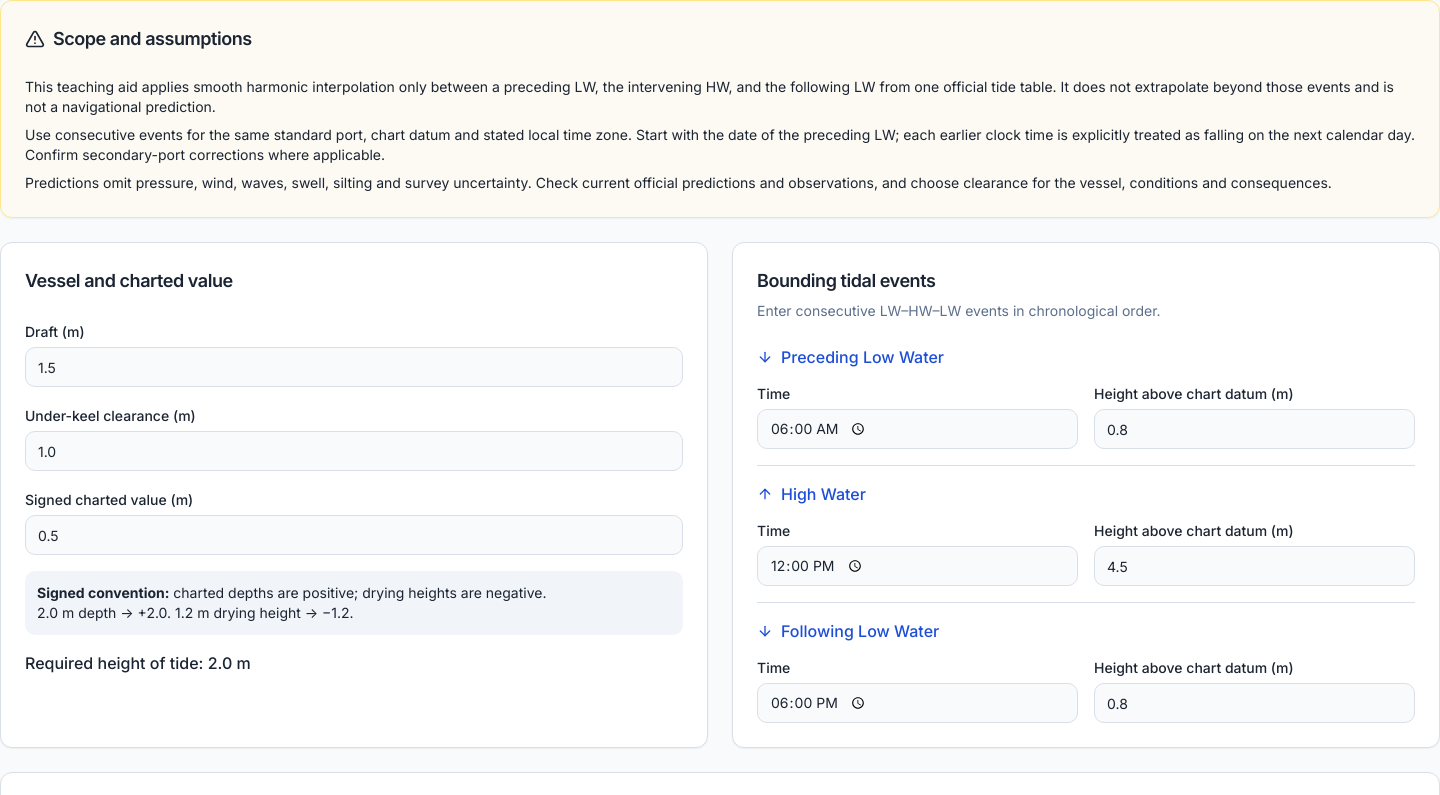
Test: TidalPassageCalculator rendering contract › does not invent a rounded window when the exact interval is too narrow
Replace the text in the time field with id "high-time" with "12:02" at (918, 566), box [757,546,1078,586]
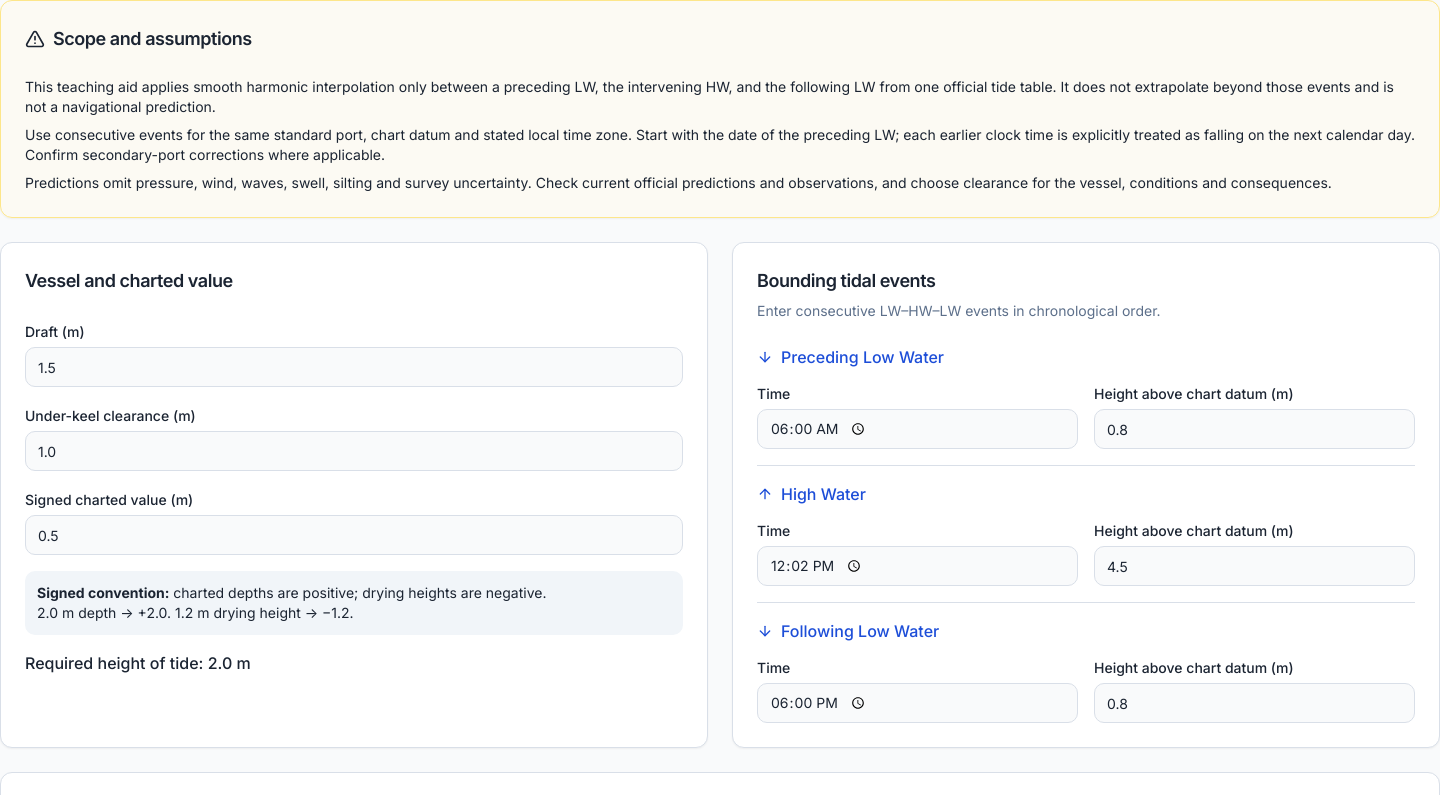
Replace the text in the time field with id "followingLow-time" with "18:02" at (918, 703), box [757,683,1078,723]
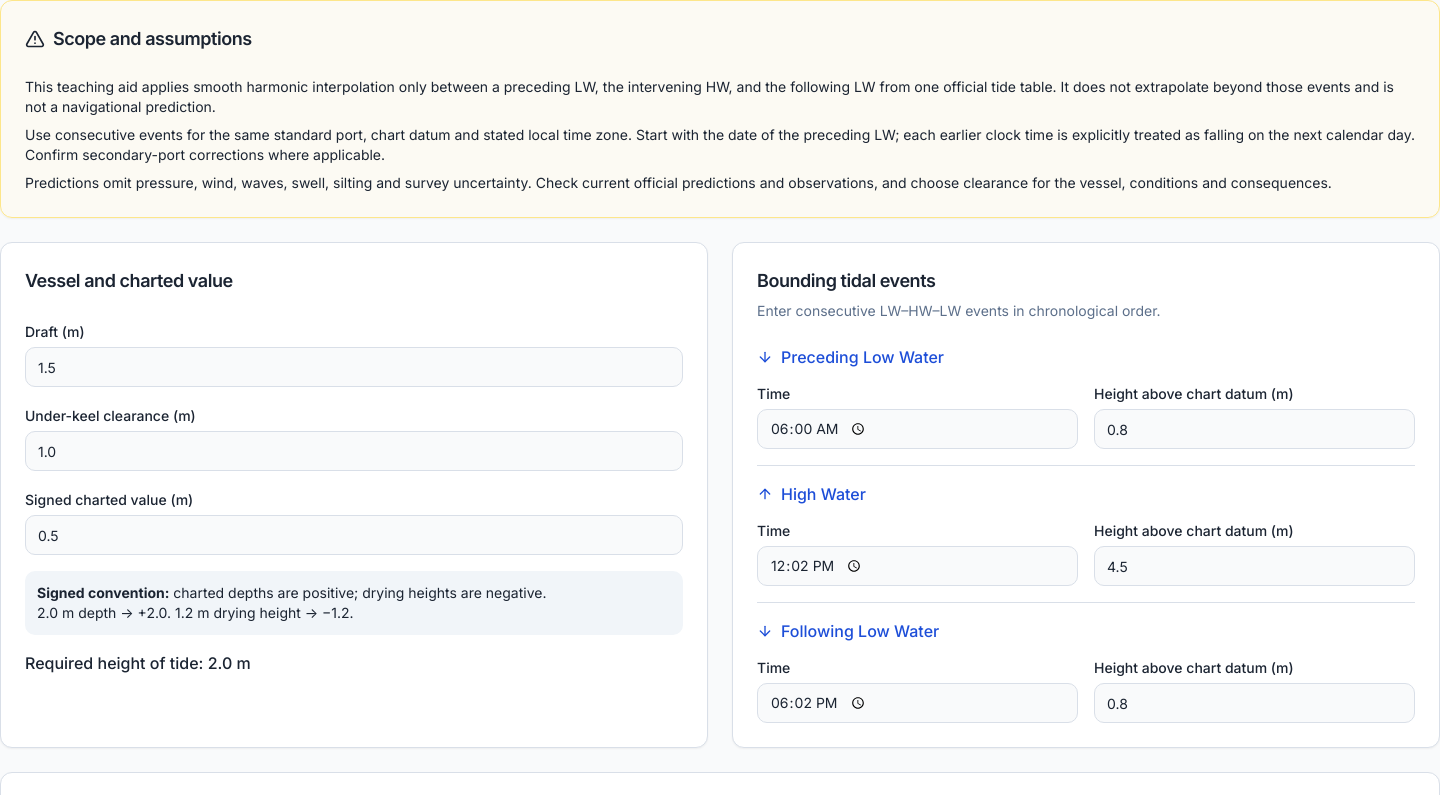
Replace the text in the number field with id "draft" with "4.49999" at (354, 367), box [25,347,683,387]
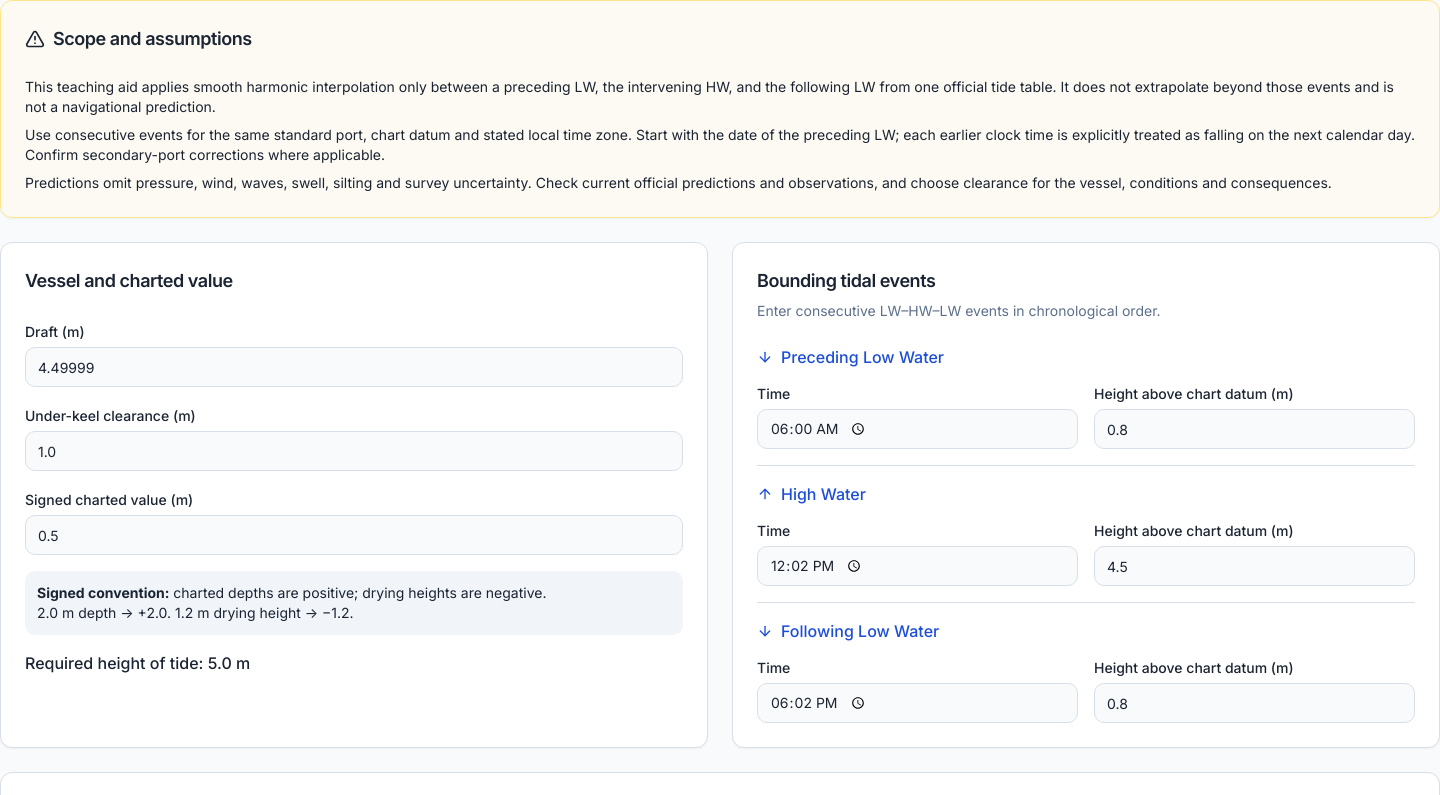
Replace the text in the number field with id "clearance" with "0" at (354, 451), box [25,431,683,471]
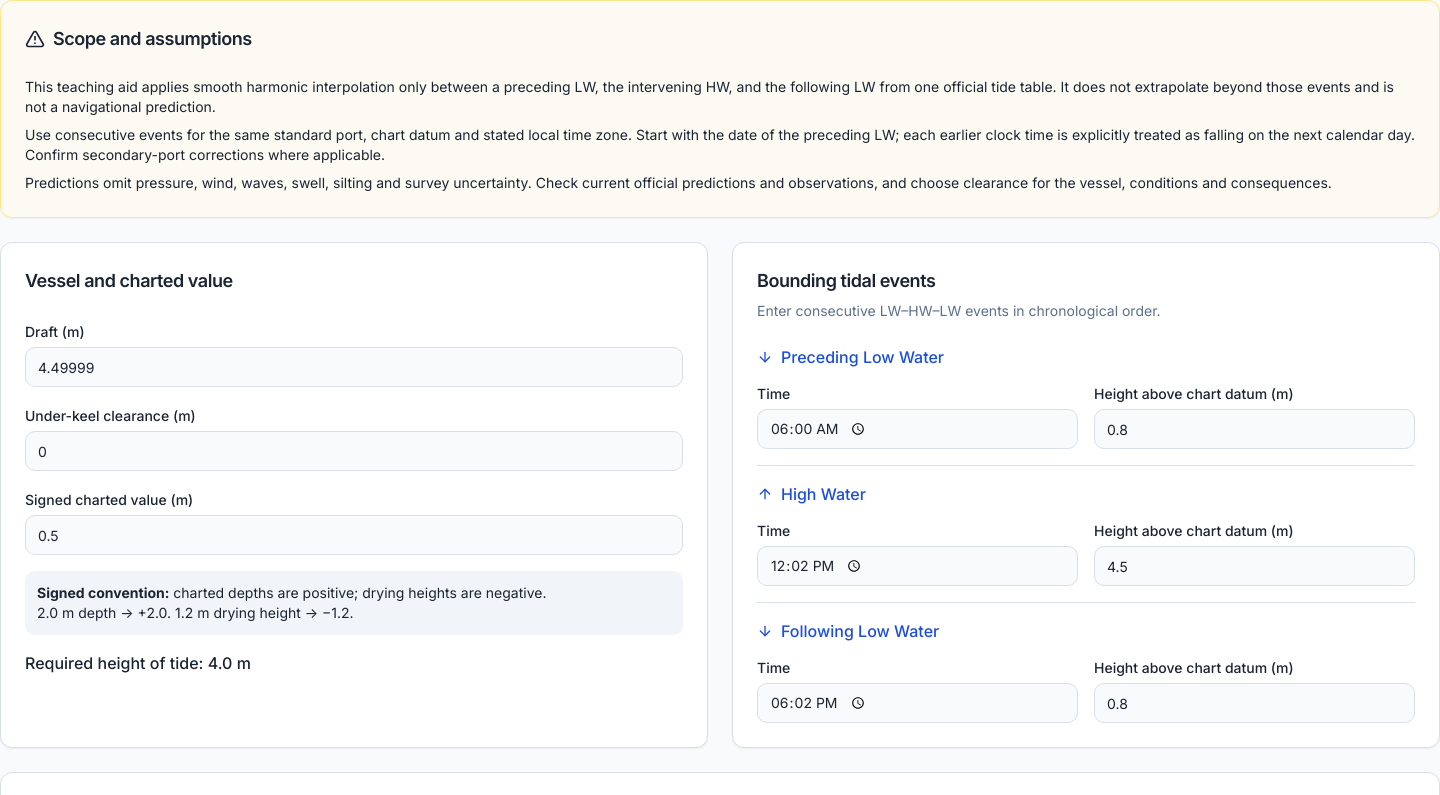
Replace the text in the number field with id "chartedDepth" with "0" at (354, 535), box [25,515,683,555]
(page scrolled)
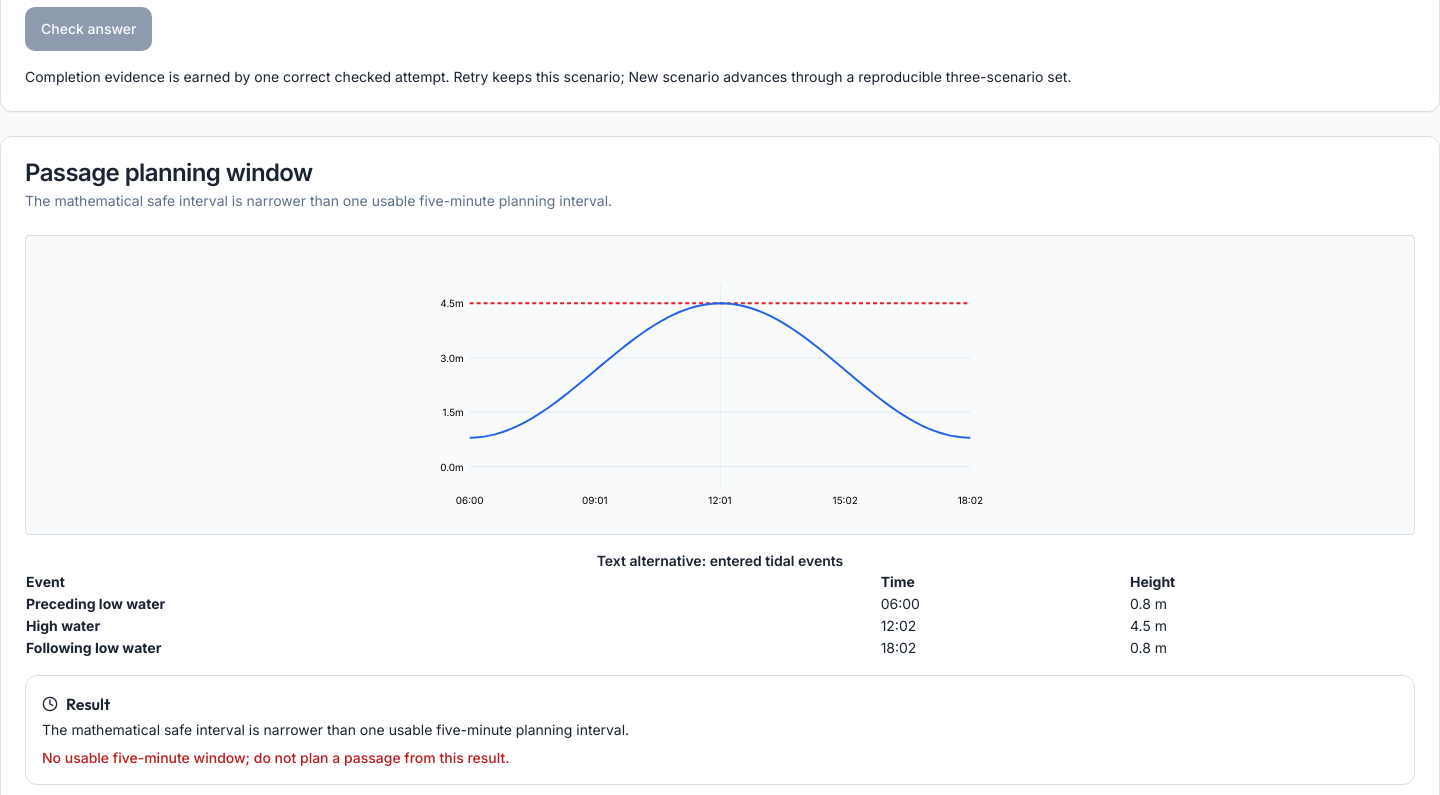
Check: the text "No usable five-minute window" is shown, box [42,749,510,766]
